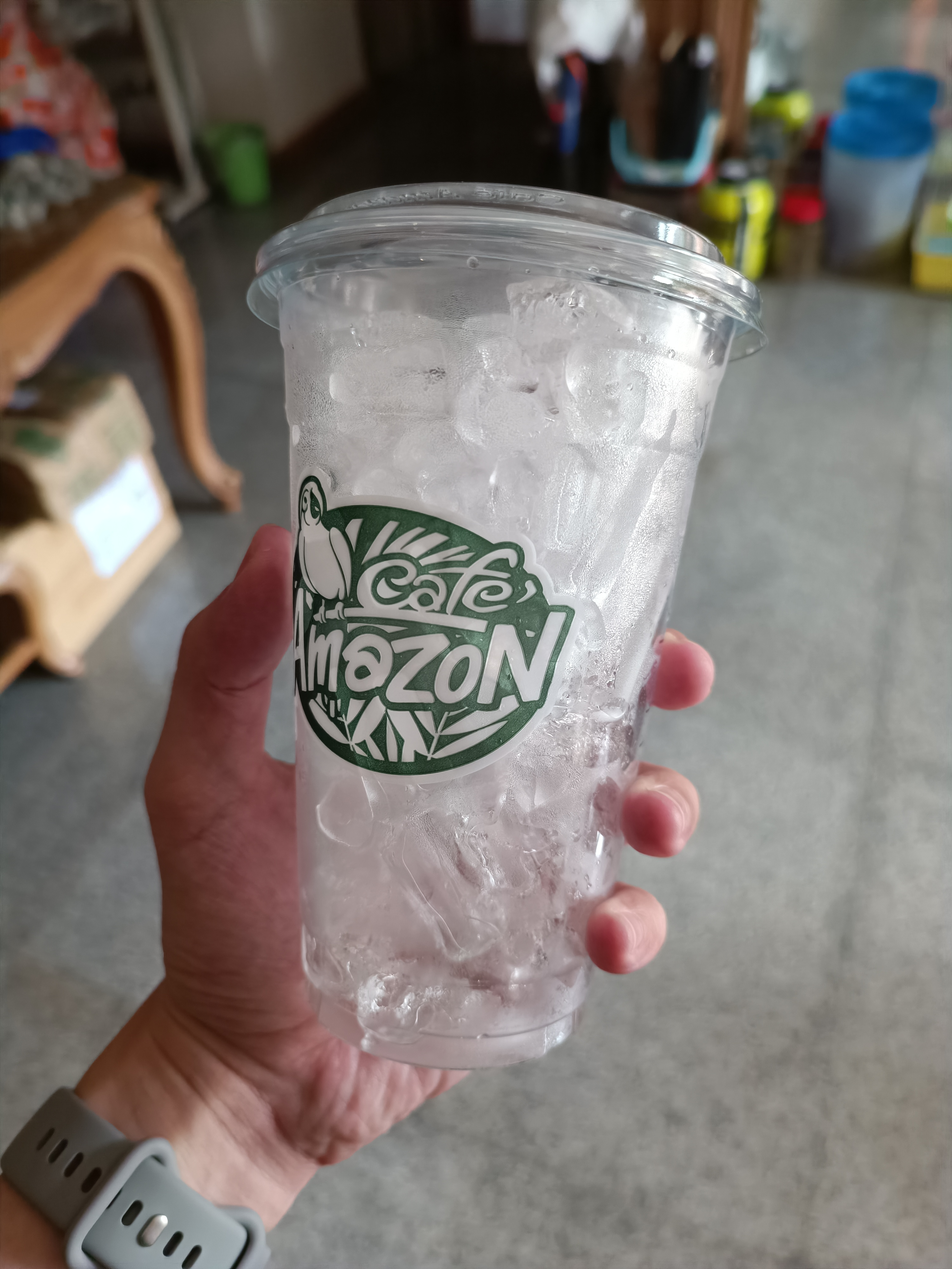plastic: (206, 178, 772, 1081)
